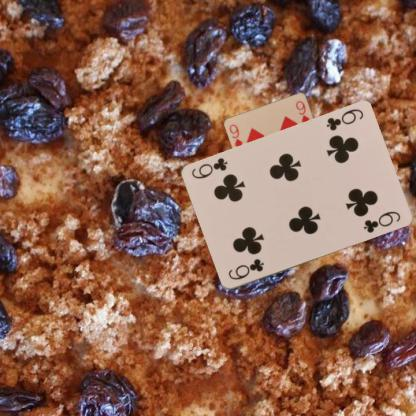6c: (323, 106, 365, 132), (225, 256, 266, 281)
9d: (227, 122, 244, 150)
